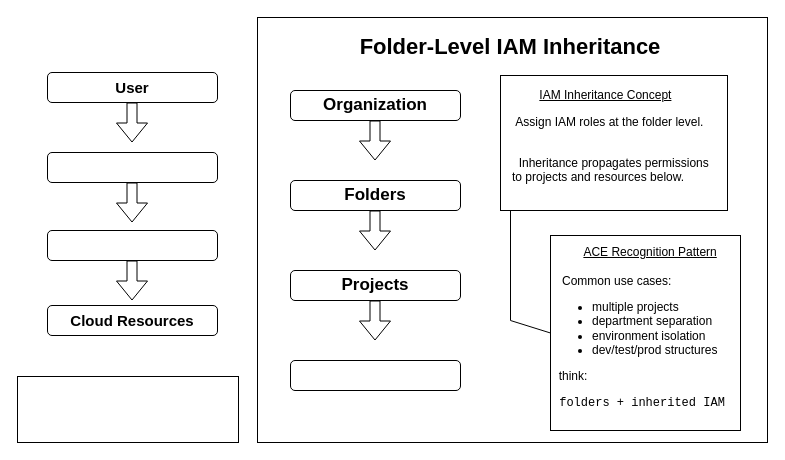
The diagram is 785 pixels wide and 460 high, and some of its shapes have lost their labels. The centre of each missing label's shape, as x and y in pixels:
IAM Role: pixel 132 167
Inherited IAM permissions reduce administrative overhead.: pixel 127 409
Project Permissions: pixel 132 245
Resources: pixel 375 375
